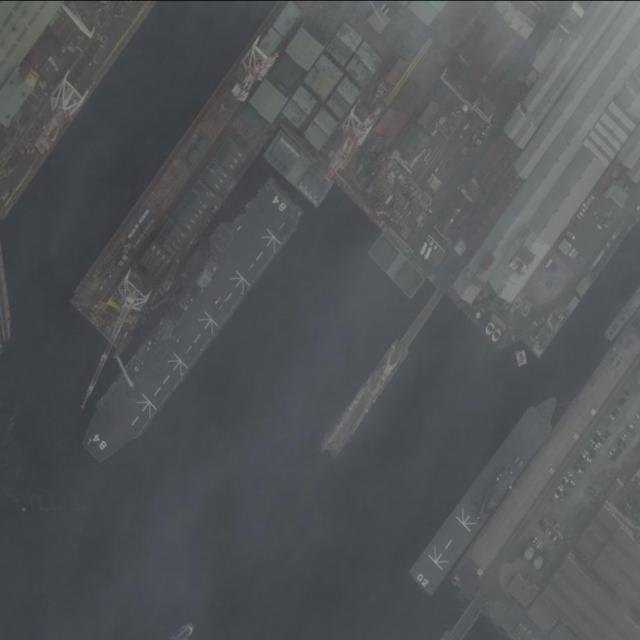Destroyer: (71, 181, 309, 467)
Dock: (314, 286, 450, 463)
Landing: (405, 389, 567, 594)
